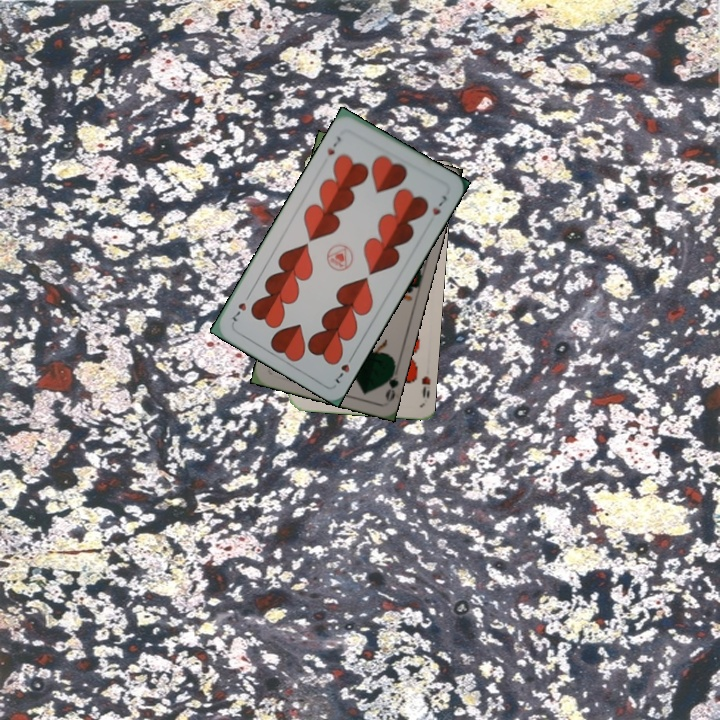GO: (378, 362, 401, 403)
H7: (330, 350, 357, 386), (323, 132, 343, 158)
H9: (418, 372, 433, 401)
